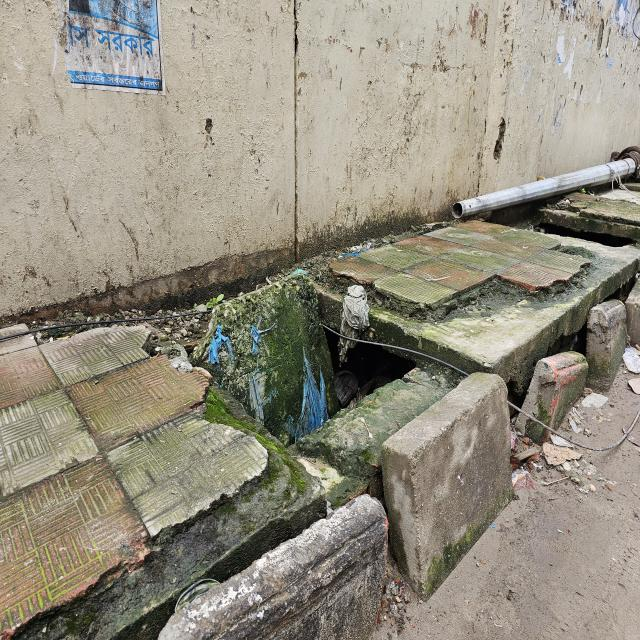drain_inlet: (186, 278, 414, 452)
